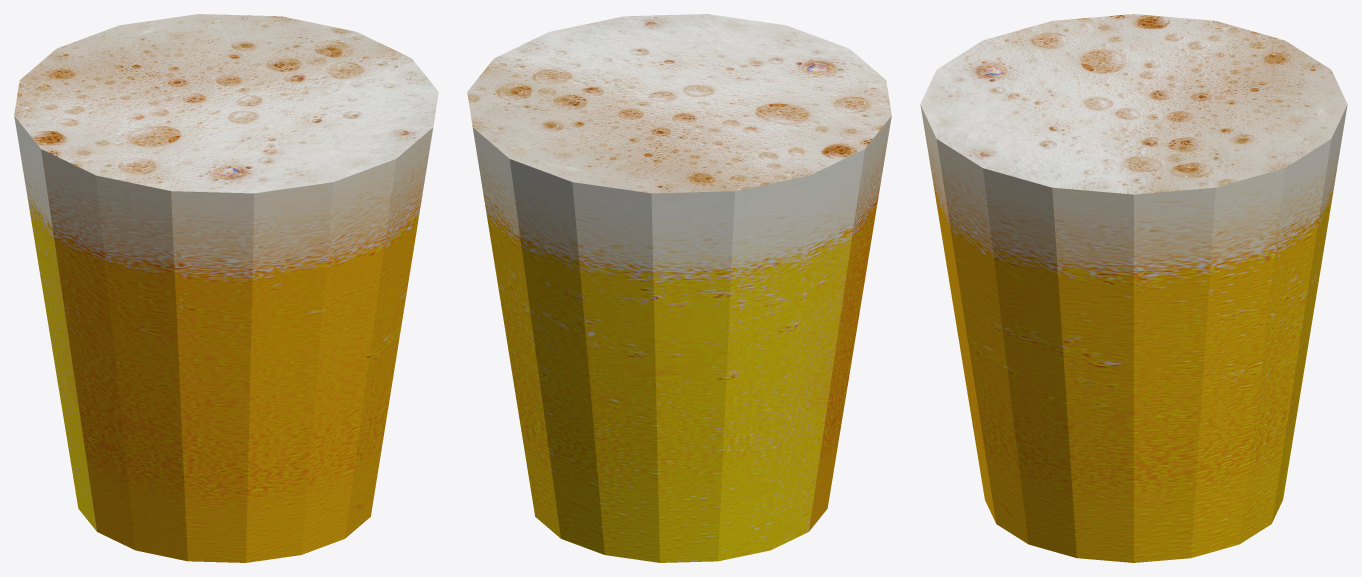
File: liquido.fbx
3 renders of one model, left to right at view 1: azimuth 30°, elevation 25°; view 2: azimuth 150°, elevation 25°; view 3: azimuth 270°, elevation 25°, orthographic.
Visible parts, largest first — view 1: Cylinder.003; view 2: Cylinder.003; view 3: Cylinder.003.
Part boxes in pixels (x1=…): Cylinder.003: x1=14, y1=14, x2=438, y2=562; Cylinder.003: x1=467, y1=14, x2=891, y2=562; Cylinder.003: x1=920, y1=14, x2=1347, y2=562.
Size of the model in its own units: 257 by 262 by 257.
